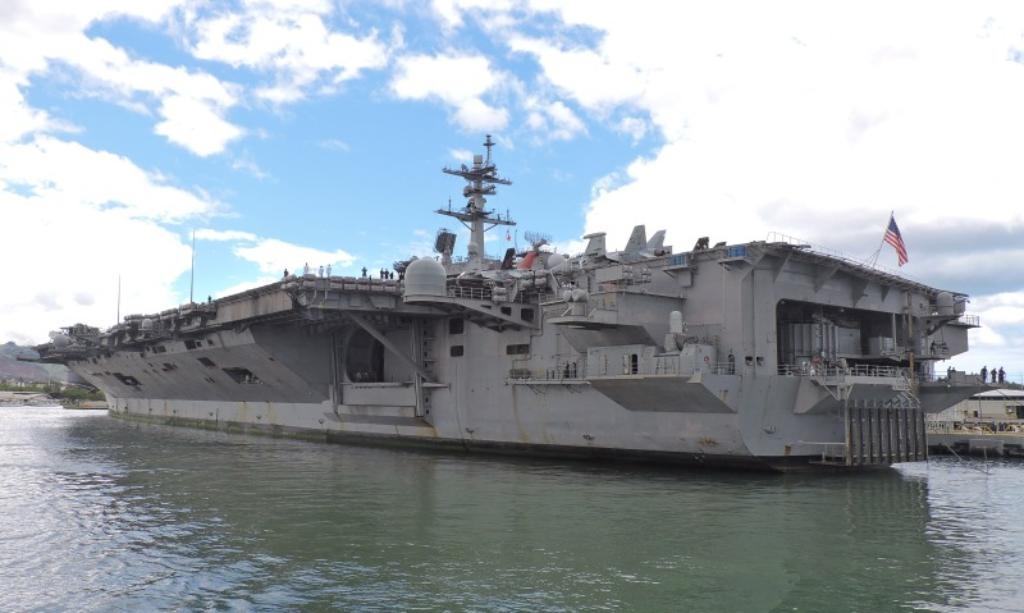Warship: (22, 131, 1012, 472)
